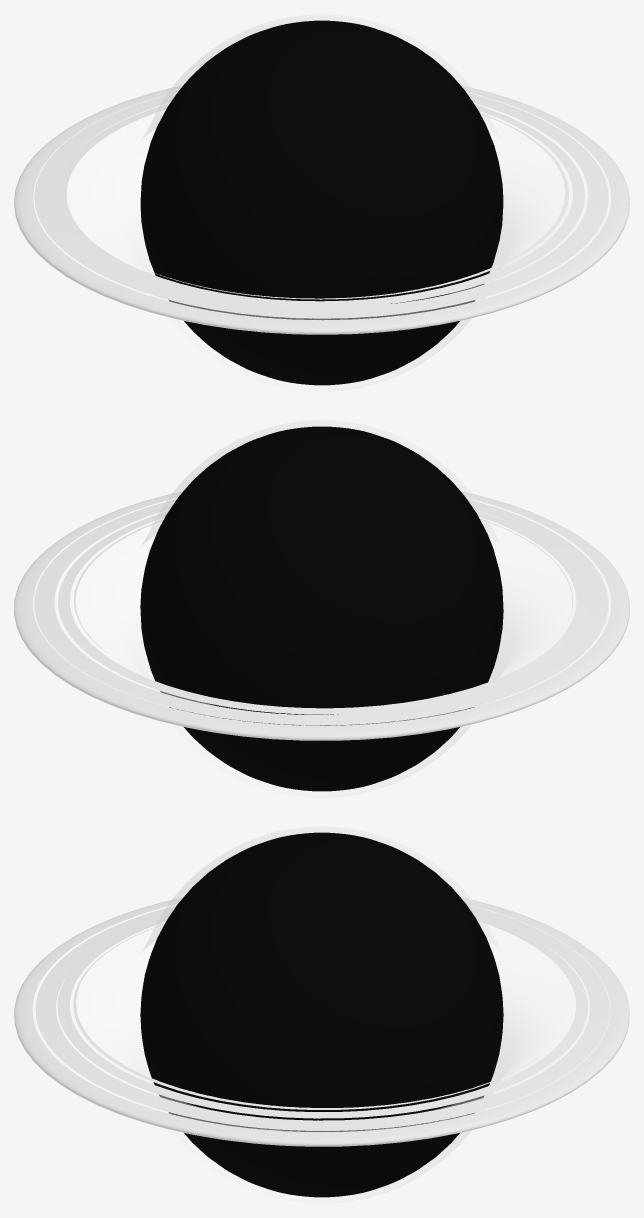
File: blackhole.glb
3 views of the same model, one above another, from view 1: azimuth 30°, elevation 25°; view 2: azimuth 150°, elevation 25°; view 3: azimuth 270°, elevation 25° (orthographic).
Parts seen in each view (by area): view 1: hole_1, Sphere_0; view 2: hole_1, Sphere_0; view 3: hole_1, Sphere_0.
Boxes of the visible parts, x1,y1,x2,y2 form: hole_1: (140, 20, 503, 385); Sphere_0: (14, 14, 629, 391); hole_1: (140, 426, 503, 791); Sphere_0: (14, 420, 629, 797); hole_1: (140, 832, 503, 1197); Sphere_0: (14, 826, 629, 1203).
Bounding box in the file's own units: 24.75 × 15.24 × 24.75.
4 materials, 1 textured.
